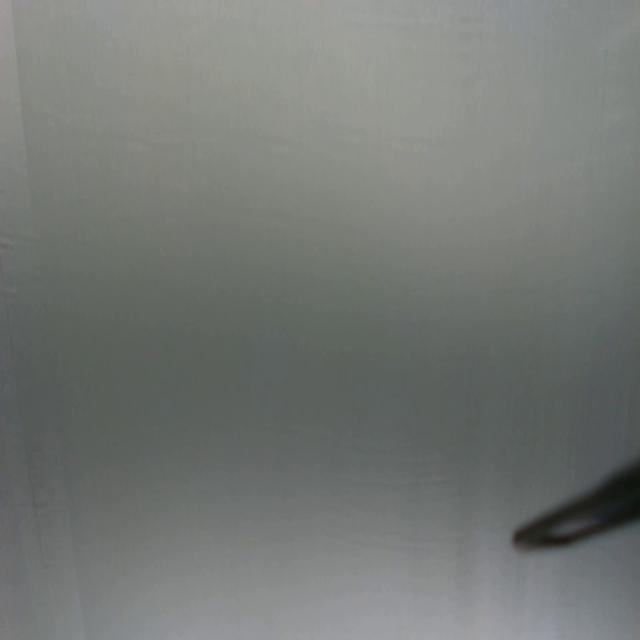crease: (0, 0, 84, 637)
